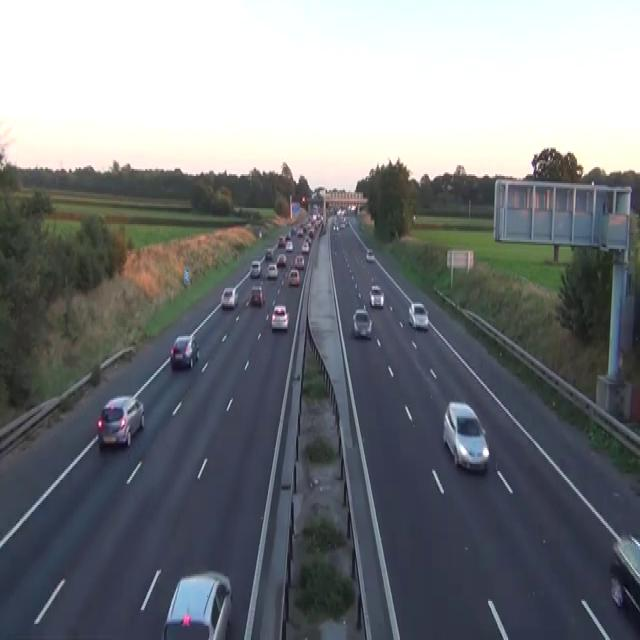Car: (162, 571, 232, 638), (442, 400, 489, 471), (609, 531, 639, 617), (97, 395, 144, 448), (170, 332, 199, 370), (352, 308, 372, 338), (408, 302, 428, 329), (271, 304, 289, 331), (221, 286, 238, 310), (369, 284, 384, 308), (249, 284, 264, 306), (288, 267, 300, 286), (249, 260, 261, 278), (266, 263, 277, 279), (441, 181, 454, 192), (276, 252, 286, 266), (294, 254, 304, 268), (365, 247, 374, 261), (265, 247, 273, 260), (285, 240, 293, 251), (278, 235, 285, 247), (301, 242, 309, 252), (349, 202, 357, 212), (286, 229, 292, 240), (297, 226, 303, 236), (339, 218, 345, 228), (308, 228, 314, 238), (332, 222, 338, 231), (290, 226, 296, 234), (321, 224, 326, 233), (301, 195, 306, 202), (258, 230, 262, 238), (412, 214, 416, 222)
